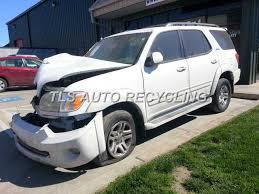bonnet-dent: (29, 56, 109, 89)
front-bumper-dent: (6, 108, 99, 158)
